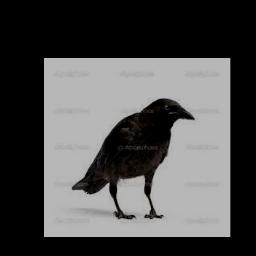Crow: (71, 98, 195, 220)
